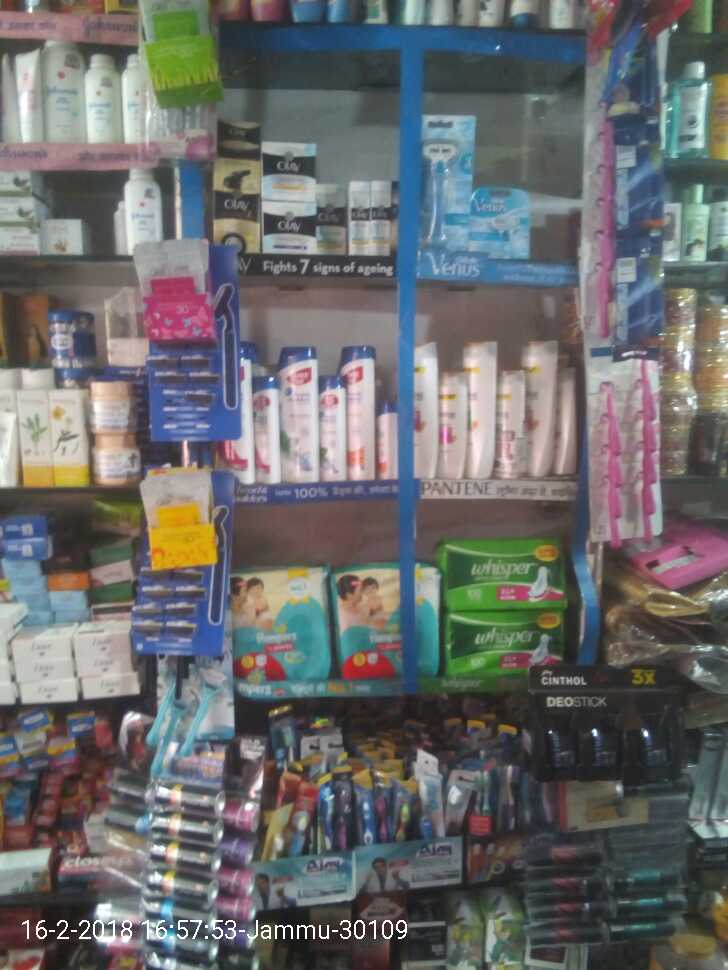gillete: (125, 568, 217, 660)
venus: (596, 358, 661, 553), (585, 60, 617, 351), (423, 115, 467, 259), (469, 186, 532, 260)
